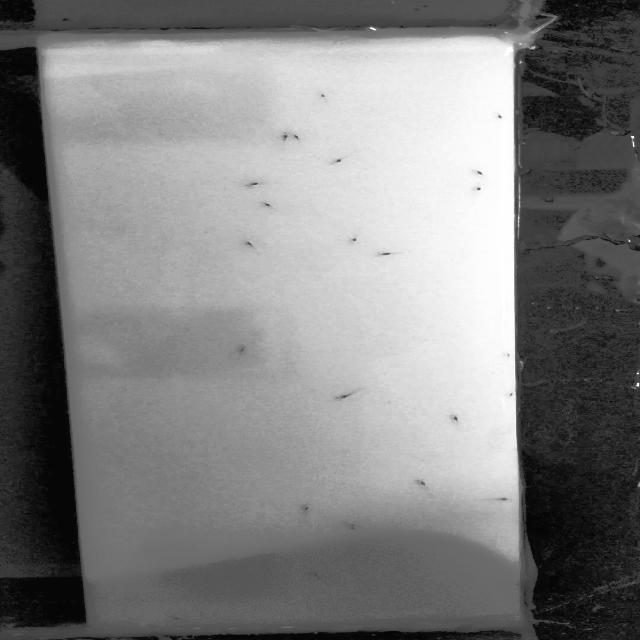shrimp: (336, 388, 358, 406), (168, 609, 190, 627), (443, 412, 466, 426), (410, 475, 431, 489), (344, 522, 361, 539), (341, 520, 362, 533), (241, 237, 261, 250), (298, 502, 318, 515), (260, 198, 277, 212), (246, 180, 263, 192), (489, 111, 507, 122), (308, 569, 322, 583), (348, 233, 363, 246), (378, 251, 397, 261), (470, 165, 484, 178), (276, 132, 290, 144), (287, 132, 301, 144), (331, 155, 345, 166), (316, 91, 328, 103), (472, 184, 484, 196), (235, 344, 247, 352)
